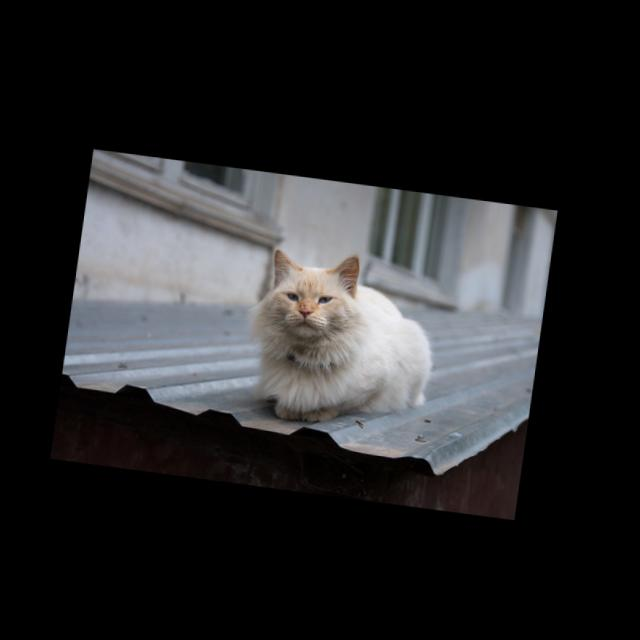animals: (241, 238, 448, 433)
